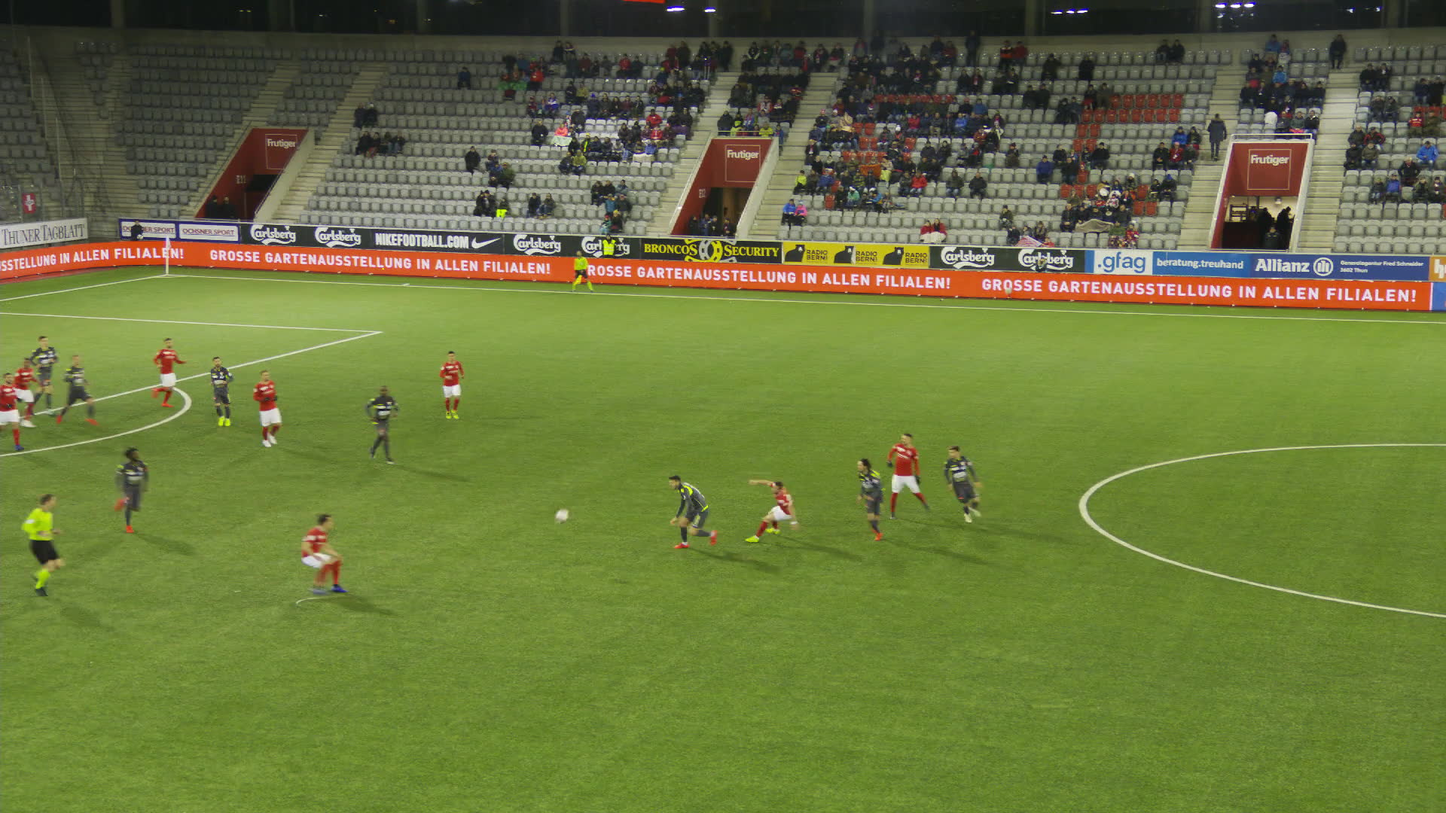ball: (554, 507, 572, 522)
player: (288, 509, 350, 599), (666, 469, 725, 553), (100, 441, 145, 532), (879, 428, 923, 519), (741, 476, 795, 544), (18, 334, 56, 420), (936, 443, 975, 526), (147, 334, 189, 410), (364, 382, 401, 465), (851, 457, 886, 542), (49, 353, 87, 429), (249, 367, 282, 448), (436, 350, 464, 421), (207, 355, 233, 428), (4, 357, 33, 419)
referee: (20, 491, 69, 599), (569, 249, 593, 294)
